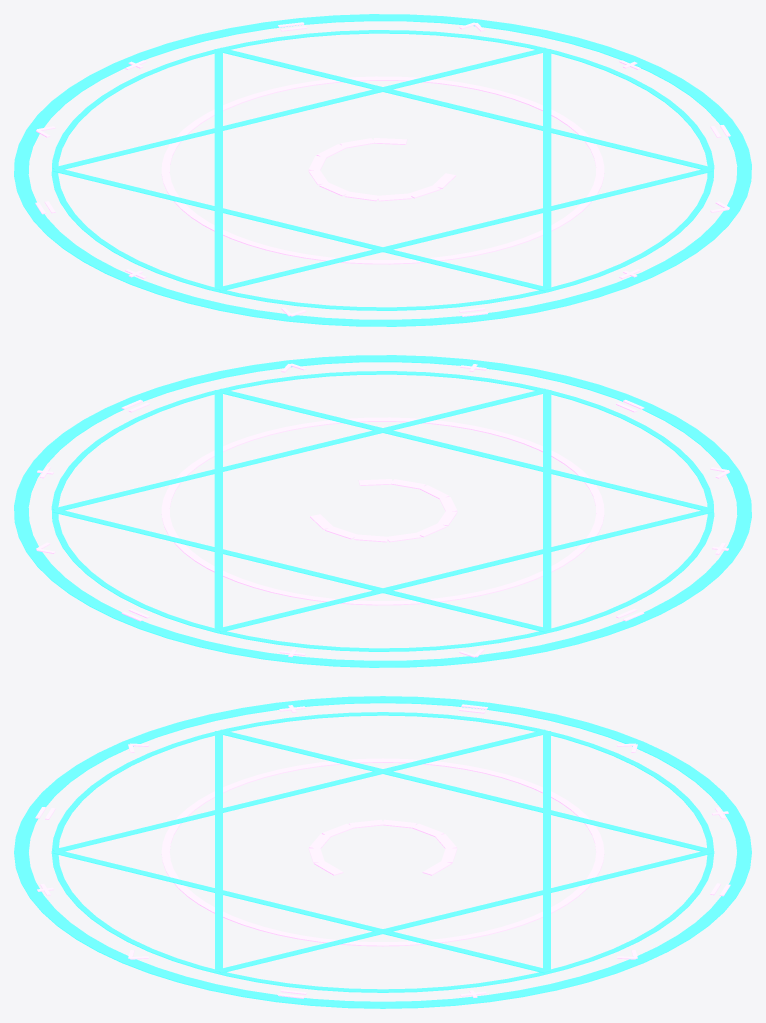
File: Ground_Magic_Circle.fbx
3 renders of one model, top to bottom at view 1: azimuth 30°, elevation 25°; view 2: azimuth 150°, elevation 25°; view 3: azimuth 270°, elevation 25°, orthographic.
Parts seen in each view (by area): view 1: Ground_Magic_Circle_Mesh; view 2: Ground_Magic_Circle_Mesh; view 3: Ground_Magic_Circle_Mesh.
Boxes of the visible parts, x1,y1,x2,y2 form: Ground_Magic_Circle_Mesh: [14, 14, 751, 326]; Ground_Magic_Circle_Mesh: [14, 355, 751, 667]; Ground_Magic_Circle_Mesh: [14, 696, 751, 1008].
Bounding box in the file's own units: 4.5 × 0.012 × 4.5.
